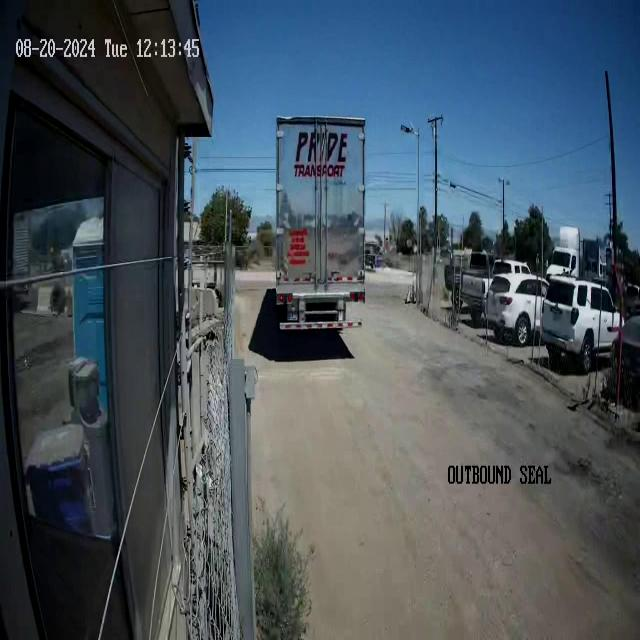TRUCK_CONTAINER: (274, 115, 366, 332)
